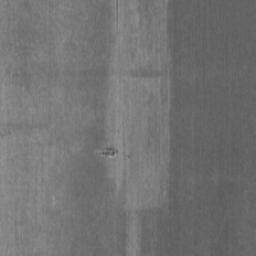Rolled pit: (98, 0, 170, 256)
